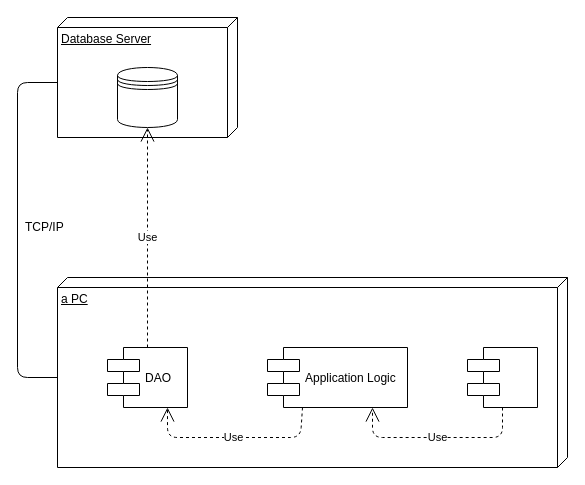
Image size: 585x485. Some labels were removed from this diagram. The shapes that lost their labels are listed below. From the top down, each one's centre as x and y in pixels, then its label:
At [147,97]: "DB".
At [502,377]: "UI".
